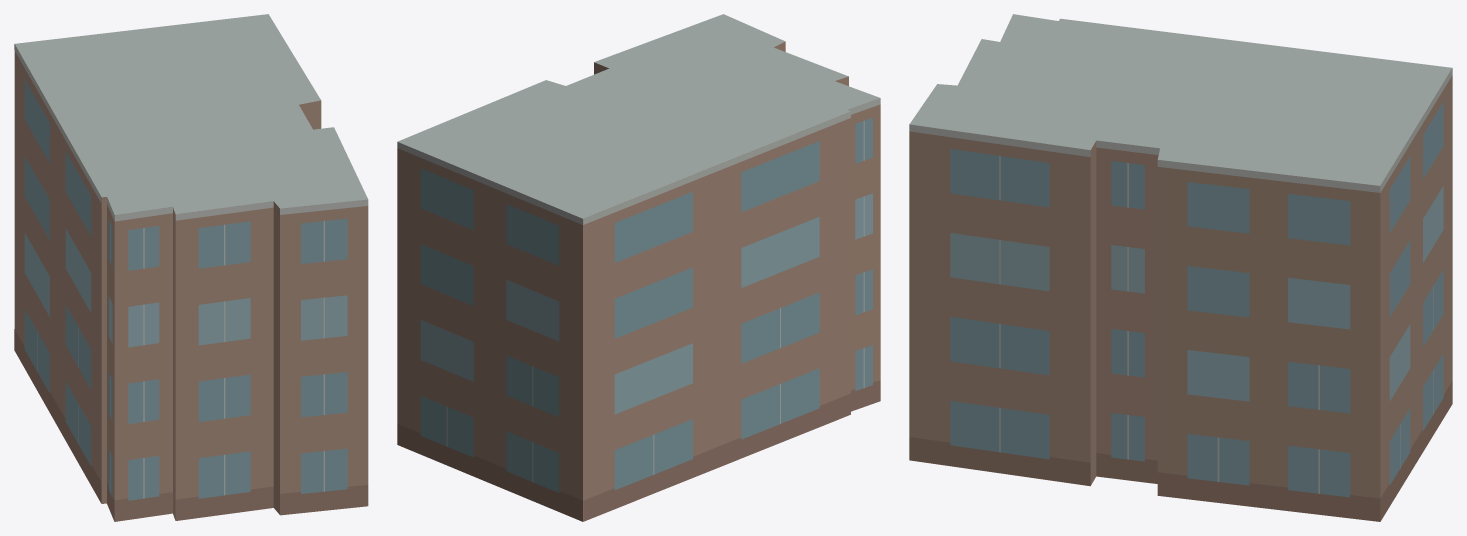
The model's file is survey-upis-32527836.glb.
The picture shows the model from 3 angles, left to right: view 1: azimuth 30°, elevation 25°; view 2: azimuth 150°, elevation 25°; view 3: azimuth 270°, elevation 25°; orthographic projection. The views are drawn at different scales.
Visible parts, largest first — view 1: survey-upis-32527836.tmp; view 2: survey-upis-32527836.tmp; view 3: survey-upis-32527836.tmp.
Part boxes in pixels (x1,y1,x2,y2): survey-upis-32527836.tmp: (14, 14, 368, 521); survey-upis-32527836.tmp: (397, 14, 880, 521); survey-upis-32527836.tmp: (909, 14, 1452, 521).
Size of the model in its own units: 12.85 by 11.7 by 17.16.
